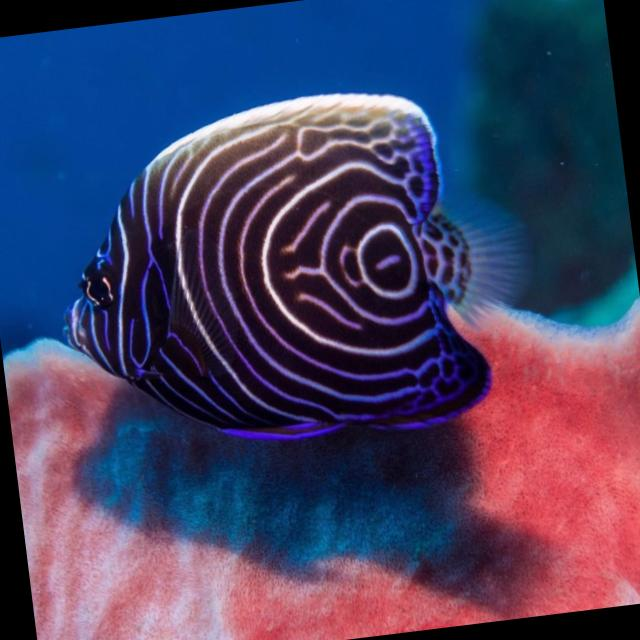AngelFish: (44, 70, 546, 472)
